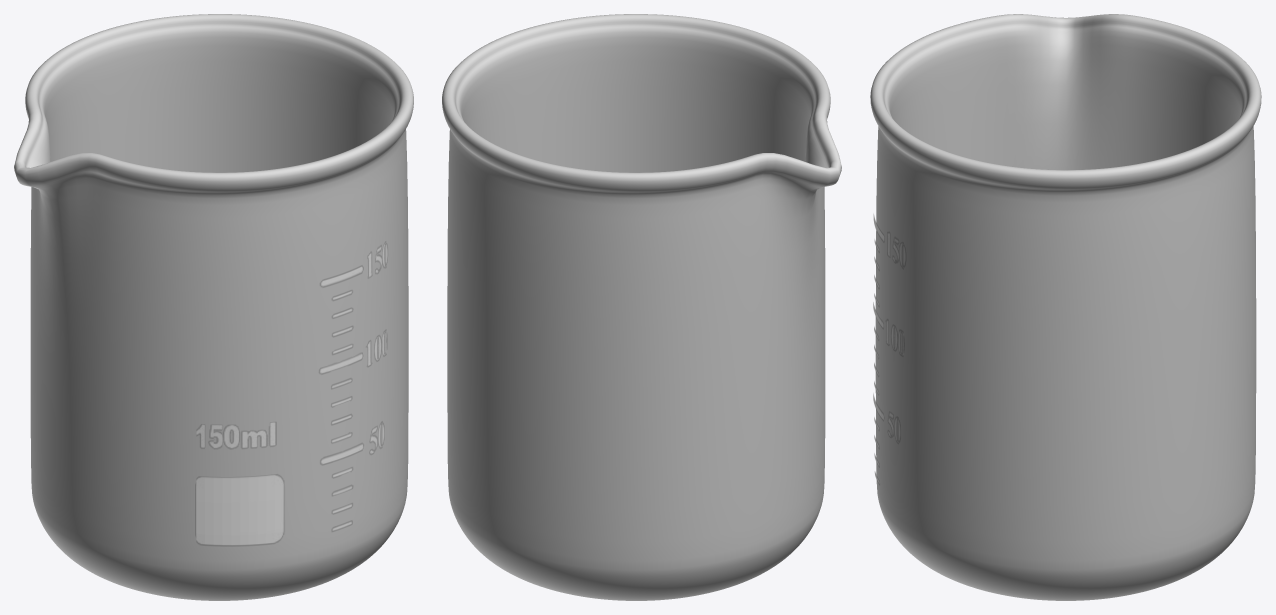
Rendered from graduated  beaker .glb.
3 views of the same model, side by side, from view 1: azimuth 30°, elevation 25°; view 2: azimuth 150°, elevation 25°; view 3: azimuth 270°, elevation 25° (orthographic).
Visible parts, largest first — view 1: Circle, Plane; view 2: Circle; view 3: Circle, Plane.
Part boxes in pixels (x1,y1,x2,y2): Circle: (14,14,413,600); Plane: (195,241,387,545); Circle: (442,14,841,600); Circle: (870,14,1261,600); Plane: (873,214,905,484).
Size of the model in its own units: 7.25 by 8.4 by 6.56.
Materials: 2 (1 with a texture image).
